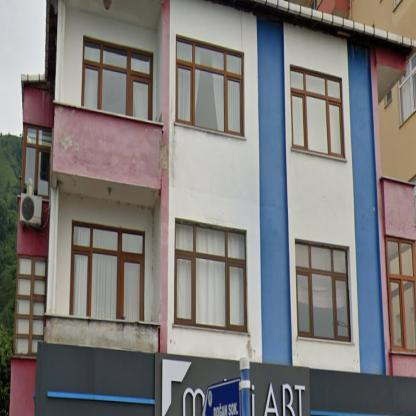window: (175, 223, 246, 329), (71, 224, 142, 319), (177, 37, 242, 135), (295, 242, 350, 340), (82, 42, 151, 120), (291, 68, 343, 154), (14, 256, 48, 356), (386, 239, 415, 351), (23, 125, 52, 195), (398, 52, 416, 124)
